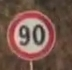limite 90: (4, 9, 57, 62)
